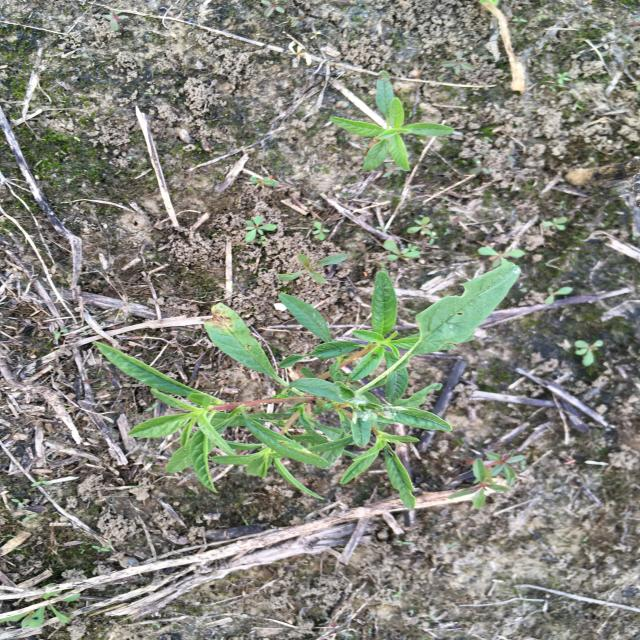Waterhemp: (91, 262, 523, 511), (323, 72, 459, 176)
